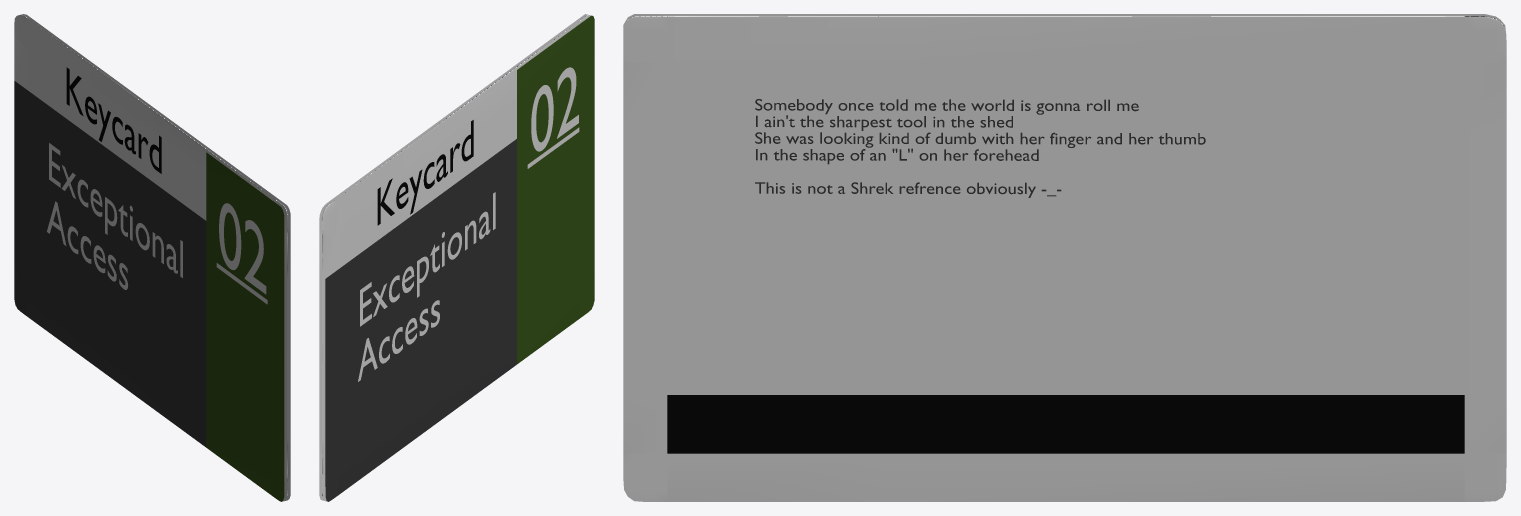
Rendered from Level2.fbx.
3 renders of one model, left to right at view 1: azimuth 30°, elevation 25°; view 2: azimuth 150°, elevation 25°; view 3: azimuth 270°, elevation 25°, orthographic. The views are drawn at different scales.
Visible parts, largest first — view 1: Cube, Text.003, Text.002, Text; view 2: Cube, Text.003, Text, Text.002; view 3: Cube, Text.005.
Boxes of the visible parts, x1=… form: Cube: x1=14, y1=14, x2=290, y2=501; Text.003: x1=47, y1=143, x2=182, y2=289; Text.002: x1=66, y1=67, x2=161, y2=173; Text: x1=219, y1=203, x2=266, y2=294; Cube: x1=319, y1=14, x2=594, y2=501; Text.003: x1=358, y1=192, x2=495, y2=381; Text: x1=531, y1=67, x2=578, y2=151; Text.002: x1=377, y1=120, x2=473, y2=225; Cube: x1=623, y1=14, x2=1506, y2=501; Text.005: x1=755, y1=99, x2=1205, y2=197.
Size of the model in its own units: 7.97 by 268 by 445.
